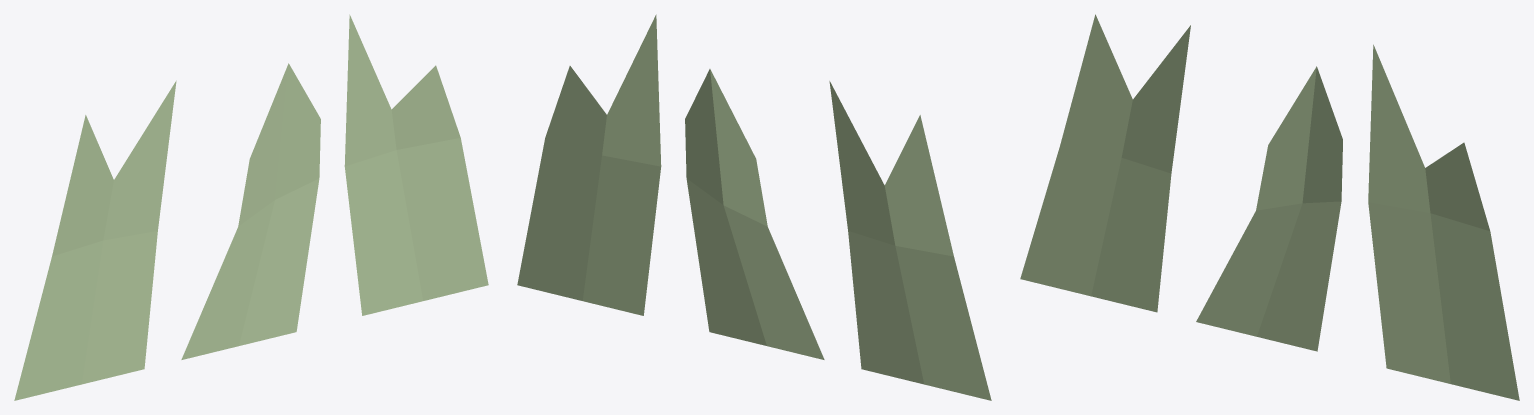
File: Dead grass 1.fbx
3 views of the same model, side by side, from view 1: azimuth 30°, elevation 25°; view 2: azimuth 150°, elevation 25°; view 3: azimuth 330°, elevation 25° (orthographic). The views are drawn at different scales.
Parts seen in each view (by area): view 1: Dead grass 1; view 2: Dead grass 1; view 3: Dead grass 1.
Boxes of the visible parts, x1=… form: Dead grass 1: x1=14, y1=14, x2=488, y2=400; Dead grass 1: x1=517, y1=14, x2=991, y2=400; Dead grass 1: x1=1020, y1=14, x2=1519, y2=400.
Size of the model in its own units: 12.41 by 7.63 by 0.1659.
